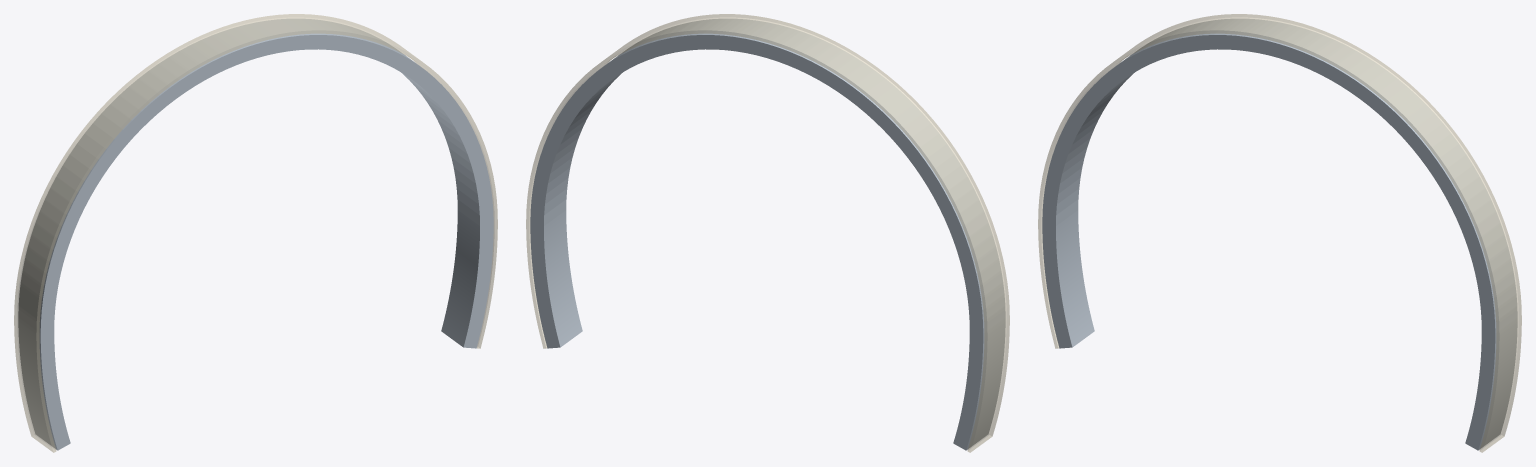
File: ZZ-II_support_1m.glb
3 renders of one model, left to right at view 1: azimuth 30°, elevation 25°; view 2: azimuth 150°, elevation 25°; view 3: azimuth 330°, elevation 25°, orthographic.
Parts seen in each view (by area): view 1: secondaryLining, primarySupportConcrete; view 2: secondaryLining, primarySupportConcrete; view 3: secondaryLining, primarySupportConcrete.
Part boxes in pixels (bbox=[...]): secondaryLining: bbox=[18, 19, 493, 450]; primarySupportConcrete: bbox=[14, 14, 497, 452]; secondaryLining: bbox=[530, 19, 1005, 450]; primarySupportConcrete: bbox=[526, 14, 1009, 452]; secondaryLining: bbox=[1042, 19, 1517, 450]; primarySupportConcrete: bbox=[1038, 14, 1521, 452].
Size of the model in its own units: 11.92 by 8.99 by 1.
